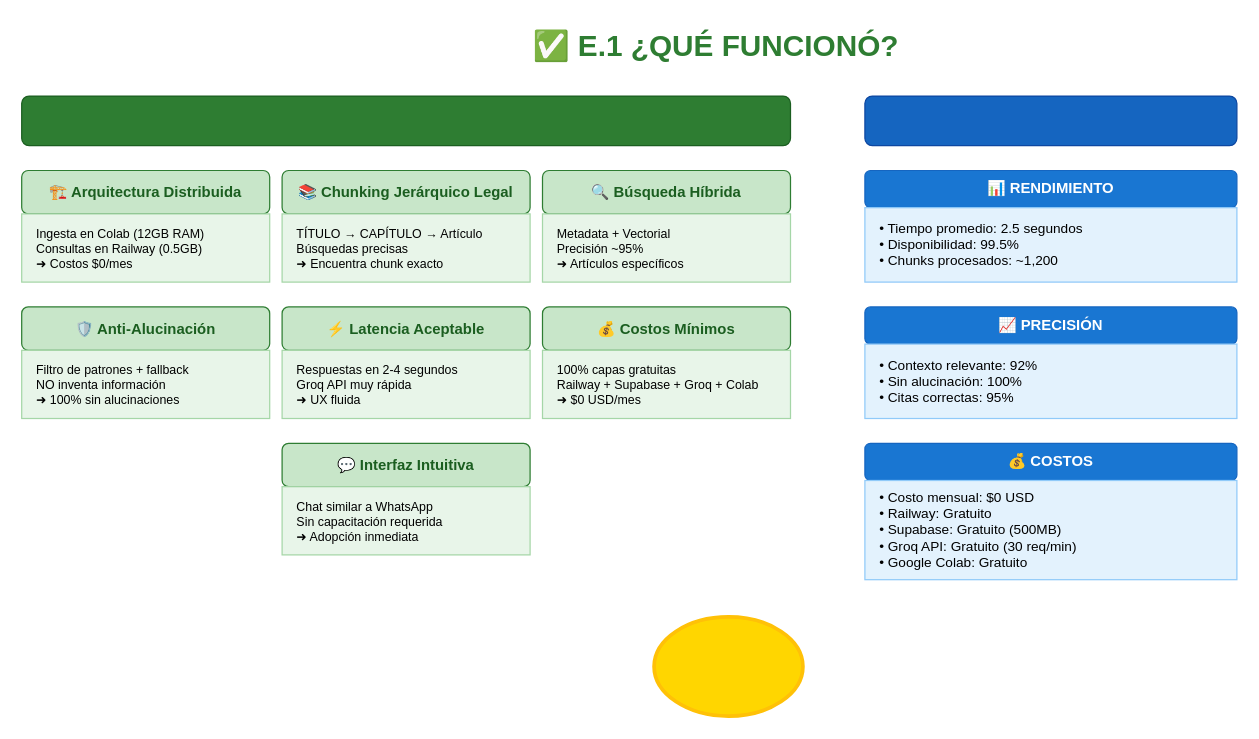
Some shapes in this 1259 by 739 pixel diagram are drawn without their labels. Each missing label, with the centre of its shape:
"✅ PROTOTIPO EXITOSO" goes at (728,665).
"🏆 ASPECTOS EXITOSOS" goes at (405,120).
"📊 MÉTRICAS DEL PROTOTIPO" goes at (1050,120).
